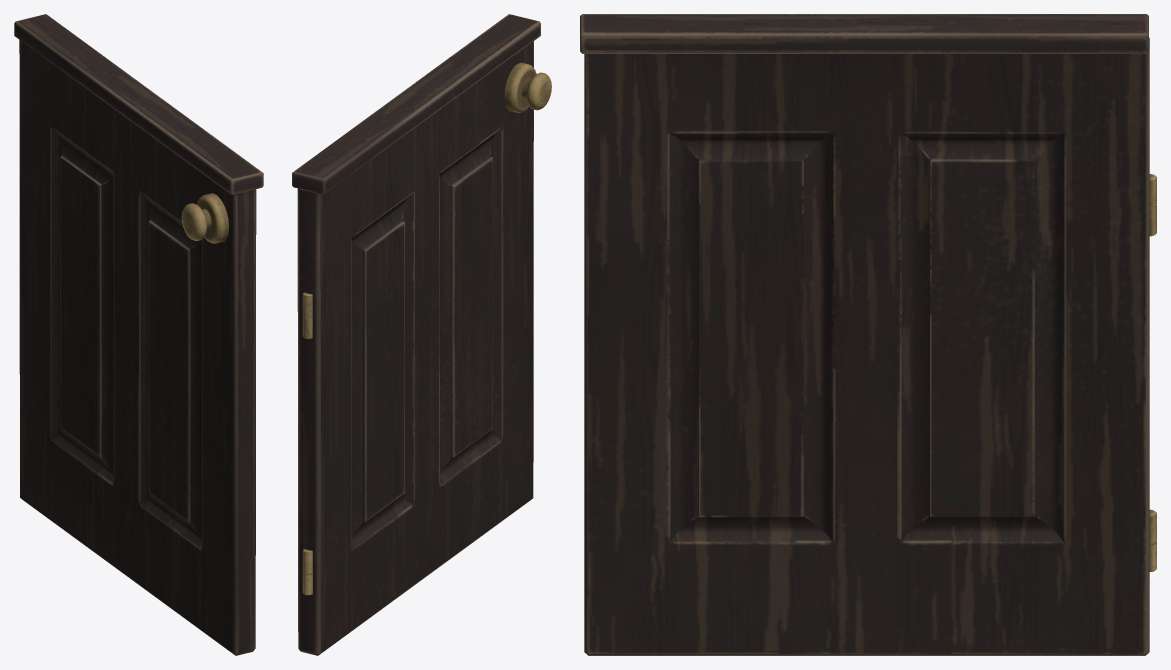
File: SM_DoorBack_Bottom.fbx
The picture shows the model from 3 angles, left to right: view 1: azimuth 30°, elevation 25°; view 2: azimuth 150°, elevation 25°; view 3: azimuth 270°, elevation 25°; orthographic projection. The views are drawn at different scales.
Parts seen in each view (by area): view 1: SM_DoorBack_Bottom_LOD0; view 2: SM_DoorBack_Bottom_LOD0; view 3: SM_DoorBack_Bottom_LOD0.
Part boxes in pixels (left/top/right/bottom): SM_DoorBack_Bottom_LOD0: left=14, top=14, right=263, bottom=655; SM_DoorBack_Bottom_LOD0: left=292, top=14, right=551, bottom=655; SM_DoorBack_Bottom_LOD0: left=580, top=14, right=1156, bottom=655.
Size of the model in its own units: 12.09 by 81.74 by 98.06.
1 material, 1 textured.
